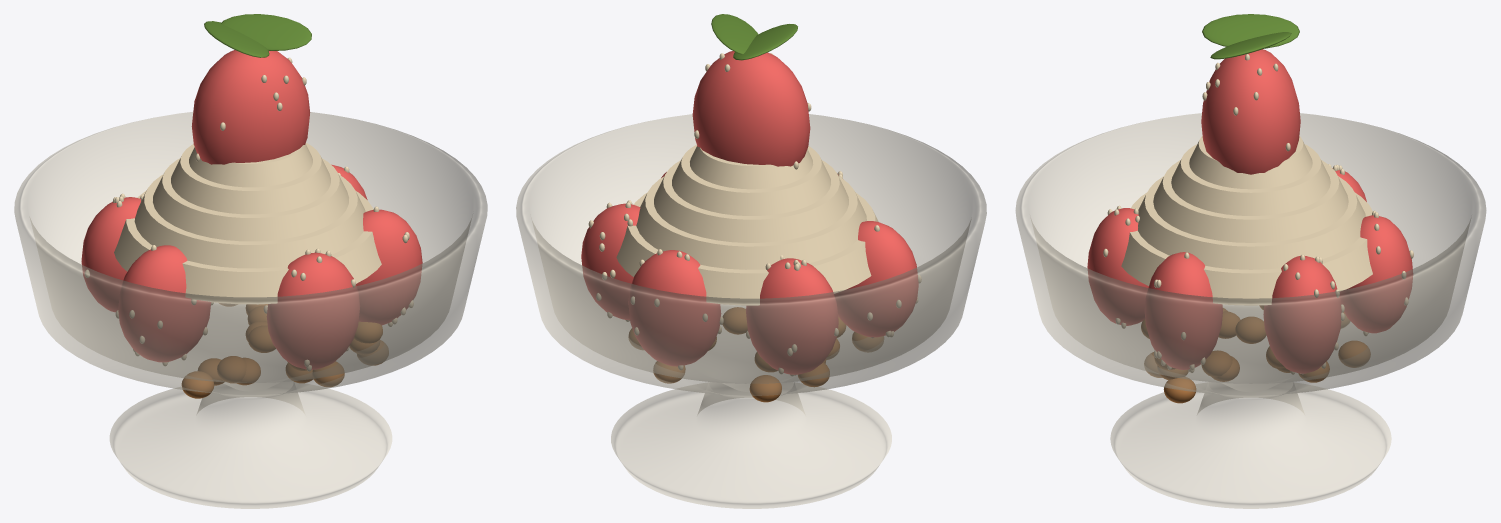
Rendered from 36-parfait.glb.
3 renders of one model, left to right at view 1: azimuth 30°, elevation 25°; view 2: azimuth 150°, elevation 25°; view 3: azimuth 270°, elevation 25°, orthographic.
Visible parts, largest first — view 1: 딸기 파르페; view 2: 딸기 파르페; view 3: 딸기 파르페.
Boxes of the visible parts, x1,y1,x2,y2 form: 딸기 파르페: (14,14,487,508); 딸기 파르페: (516,14,986,508); 딸기 파르페: (1015,14,1486,508).
Bounding box in the file's own units: 1.44 × 1.43 × 1.44.
